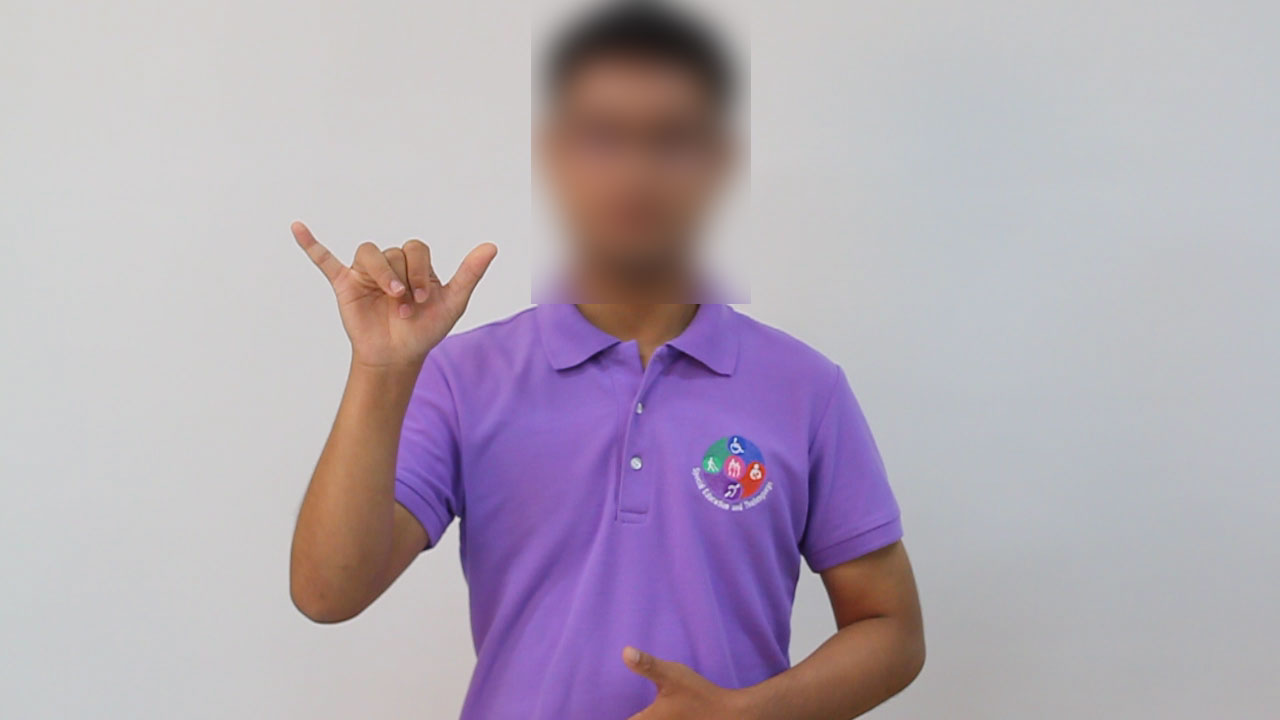yor: (265, 207, 510, 378)
